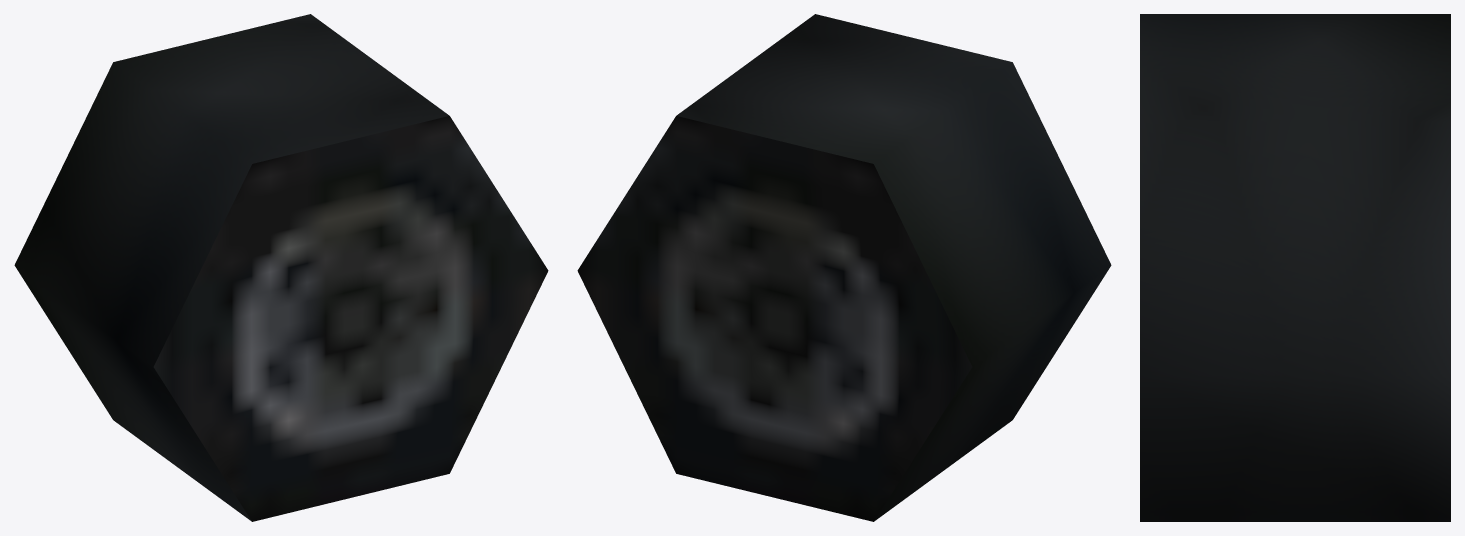
File: Shared - Armor - Tanker Truck - Damage State 25 - CVTanker_d25.glb
3 views of the same model, side by side, from view 1: azimuth 30°, elevation 25°; view 2: azimuth 150°, elevation 25°; view 3: azimuth 270°, elevation 25° (orthographic). The views are drawn at different scales.
Visible parts, largest first — view 1: CVTANKER_D25; view 2: CVTANKER_D25; view 3: CVTANKER_D25.
Boxes of the visible parts, x1,y1,x2,y2 form: CVTANKER_D25: [14, 14, 548, 521]; CVTANKER_D25: [577, 14, 1111, 521]; CVTANKER_D25: [1140, 14, 1450, 521].
Size of the model in its own units: 5.05 by 4.37 by 3.08.
1 material, 1 textured.
